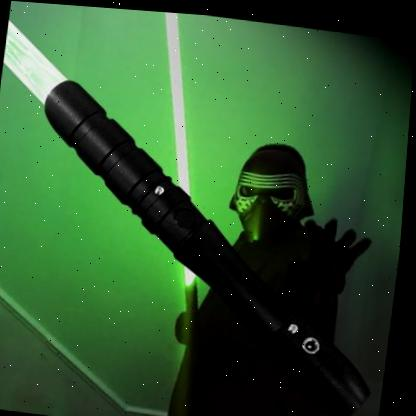lightsaber: (4, 16, 374, 416), (164, 12, 198, 352)
person: (150, 123, 391, 416)
